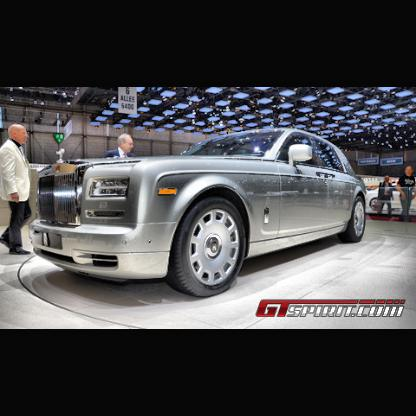Rolls-Royce Phantom Sedan 2012: (28, 127, 371, 308)
